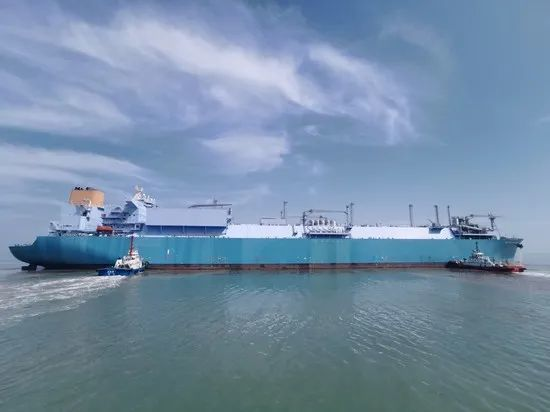Cargoship: (21, 176, 536, 277)
otherboat: (450, 239, 527, 276), (96, 237, 146, 280)
